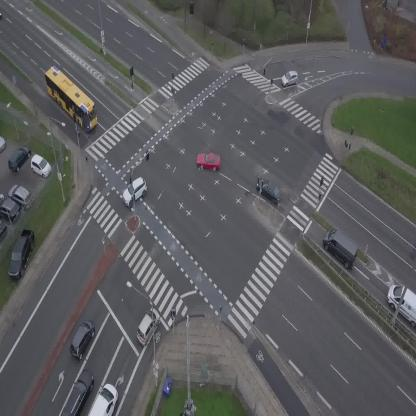bus: (36, 63, 107, 134)
car: (60, 368, 98, 416), (65, 317, 100, 361), (131, 306, 165, 348), (117, 175, 152, 208), (253, 176, 285, 205), (196, 152, 221, 171), (280, 70, 300, 87), (0, 11, 2, 19)
lorry: (316, 224, 367, 273), (89, 381, 124, 416), (387, 285, 416, 327)
